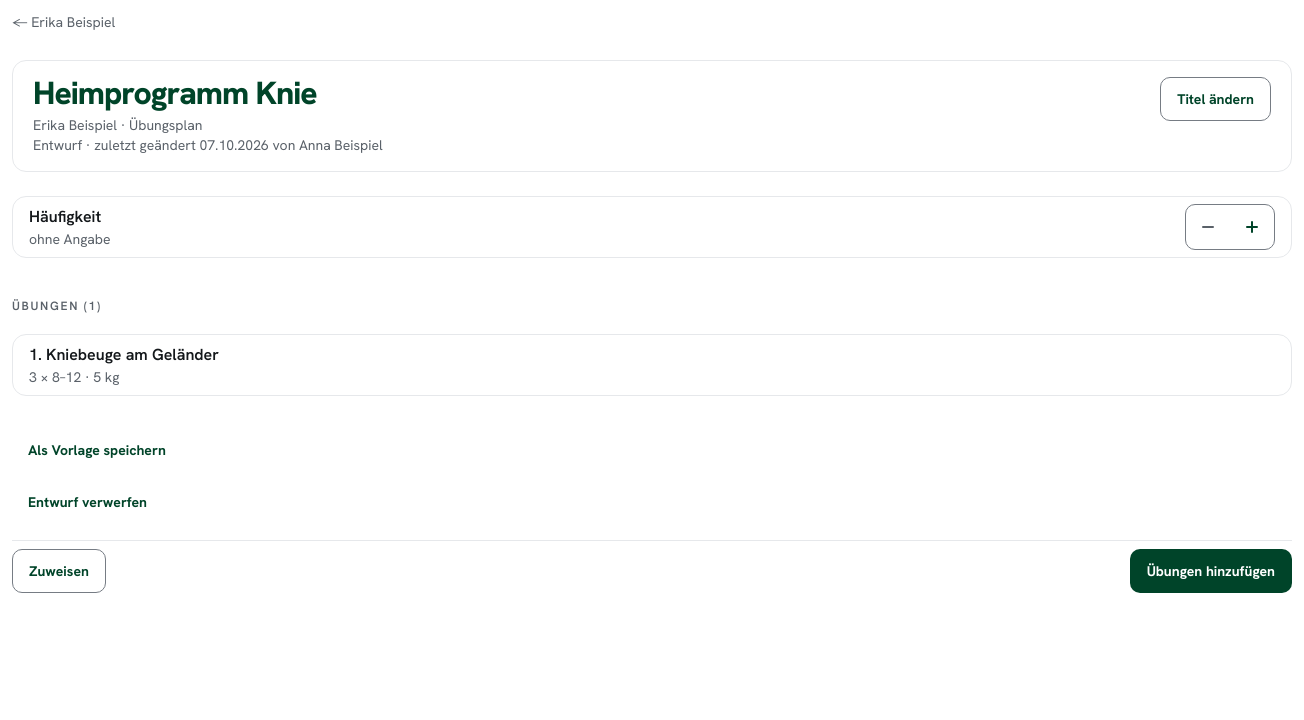
Planeditor: Entwurf als Arbeitsseite (UEB-004, Welle B) › lässt die Häufigkeit ohne Angabe, bis die Fachperson eine wählt
Expected: the list item "Häufigkeit" shows "ohne Angabe", [29,230,111,248]
Expected: the button named "Häufigkeit: weniger" is disabled, [1186,205,1230,249]
Step 1. Click the button named "Häufigkeit: mehr" → (1252, 227), box [1230,205,1274,249]
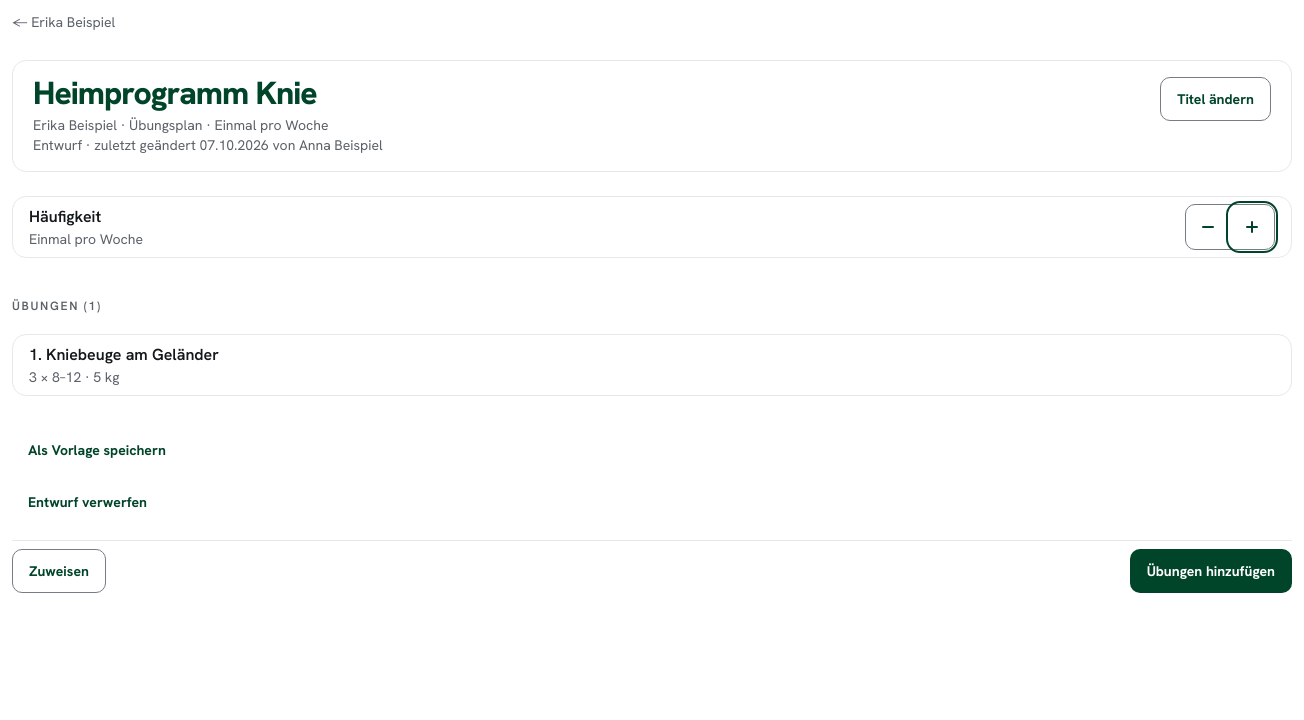
Now the list item "Häufigkeit" shows "Einmal pro Woche", box [29,230,143,248]
Step 2. Click the button named "Häufigkeit: weniger" → (1208, 227), box [1186,205,1230,249]
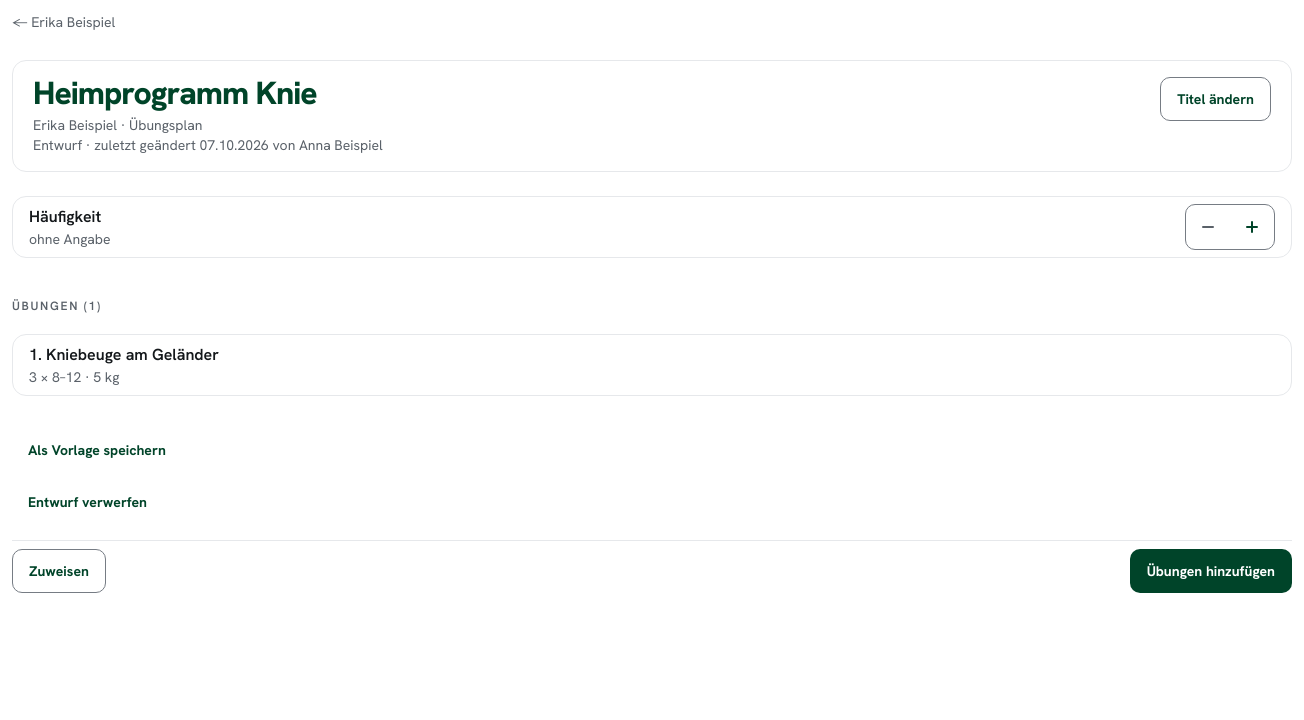
Now the list item "Häufigkeit" shows "ohne Angabe", box [29,230,111,248]
